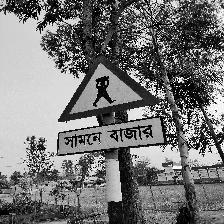Market-in-front: (55, 55, 168, 155)
